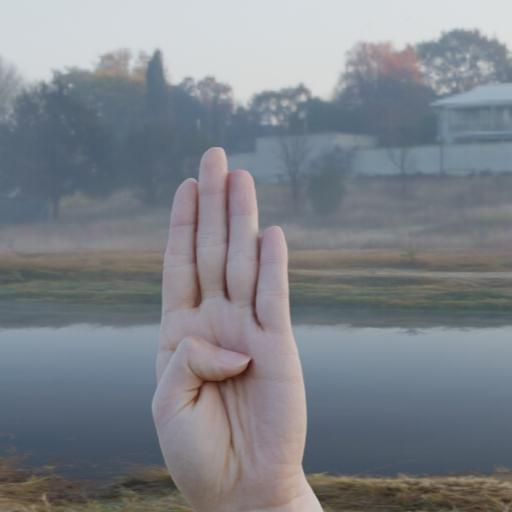B: (148, 144, 330, 508)
